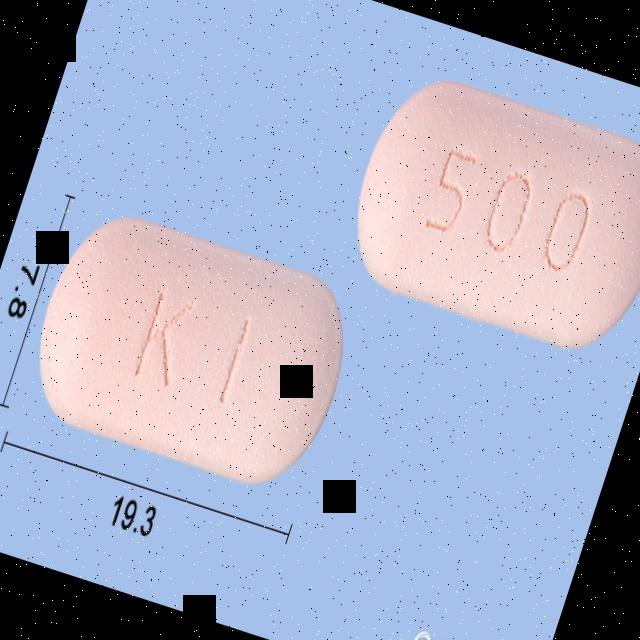Levogun -250mg: (13, 197, 368, 505), (333, 61, 640, 364)
